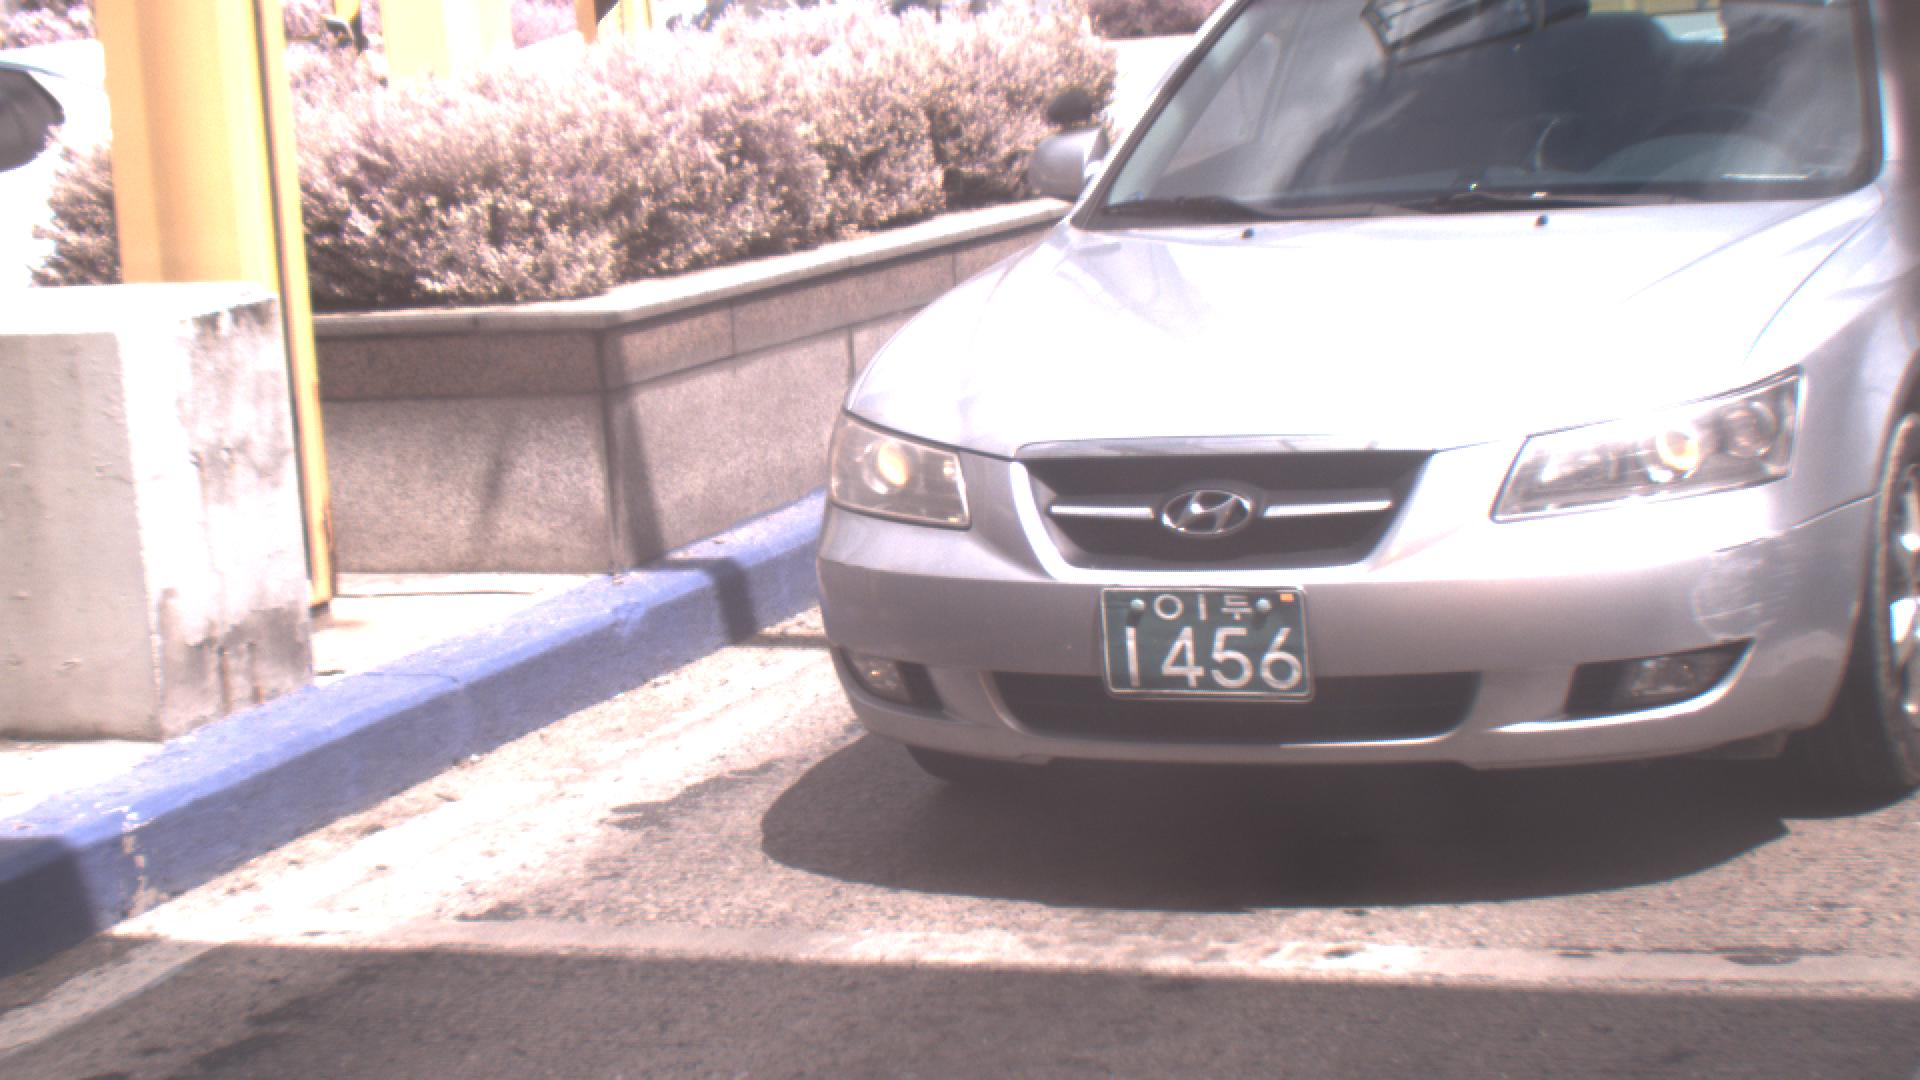car: (799, 1, 1920, 799)
plate: (1101, 587, 1313, 701)
